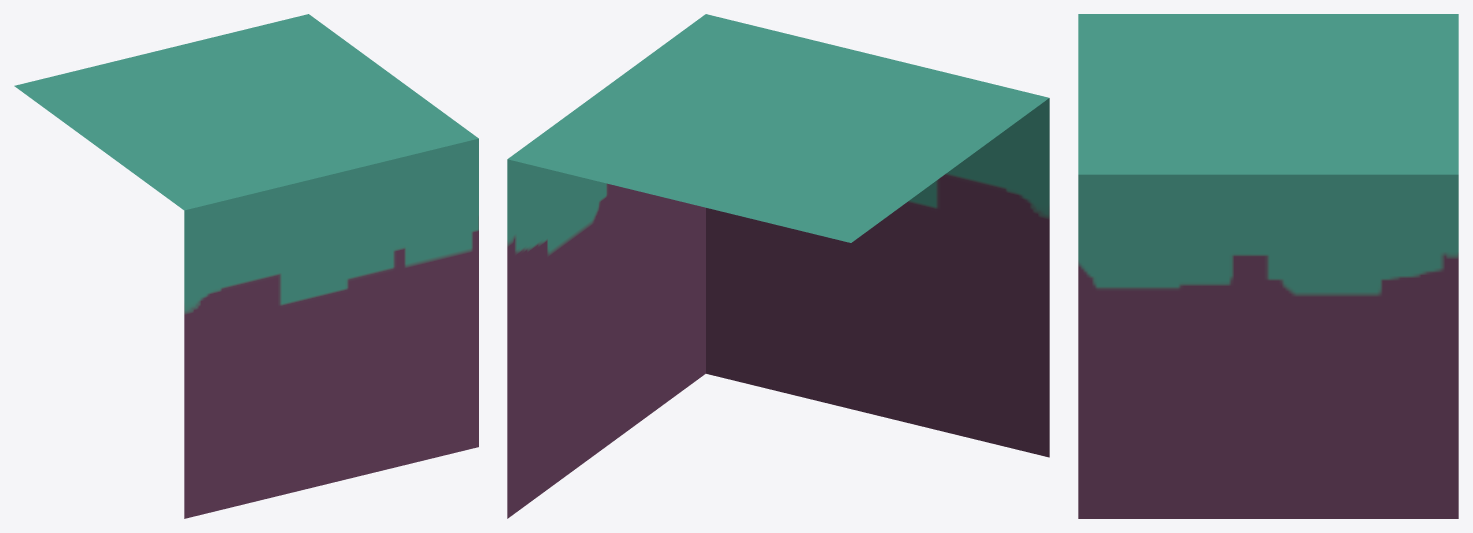
The model's file is top corner.glb.
The picture shows the model from 3 angles, left to right: view 1: azimuth 30°, elevation 25°; view 2: azimuth 150°, elevation 25°; view 3: azimuth 270°, elevation 25°; orthographic projection. The views are drawn at different scales.
Parts seen in each view (by area): view 1: top corner; view 2: top corner; view 3: top corner.
Part boxes in pixels (x1,y1,x2,y2): top corner: (14, 14, 478, 518); top corner: (507, 14, 1049, 518); top corner: (1078, 14, 1458, 518).
Size of the model in its own units: 2 by 2 by 2.
1 material, 1 textured.
